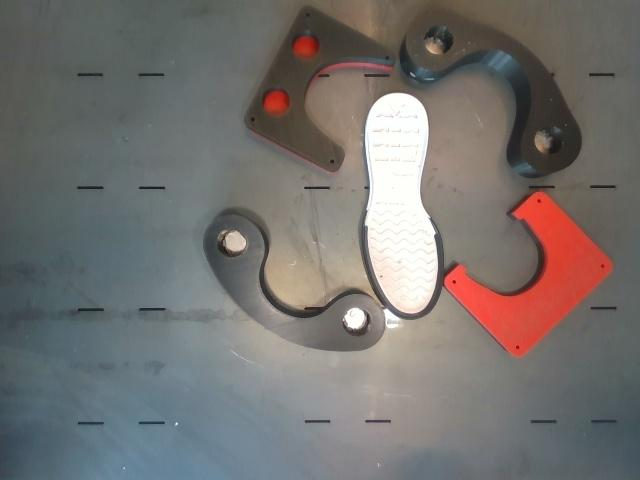shoes: (366, 93, 444, 319)
